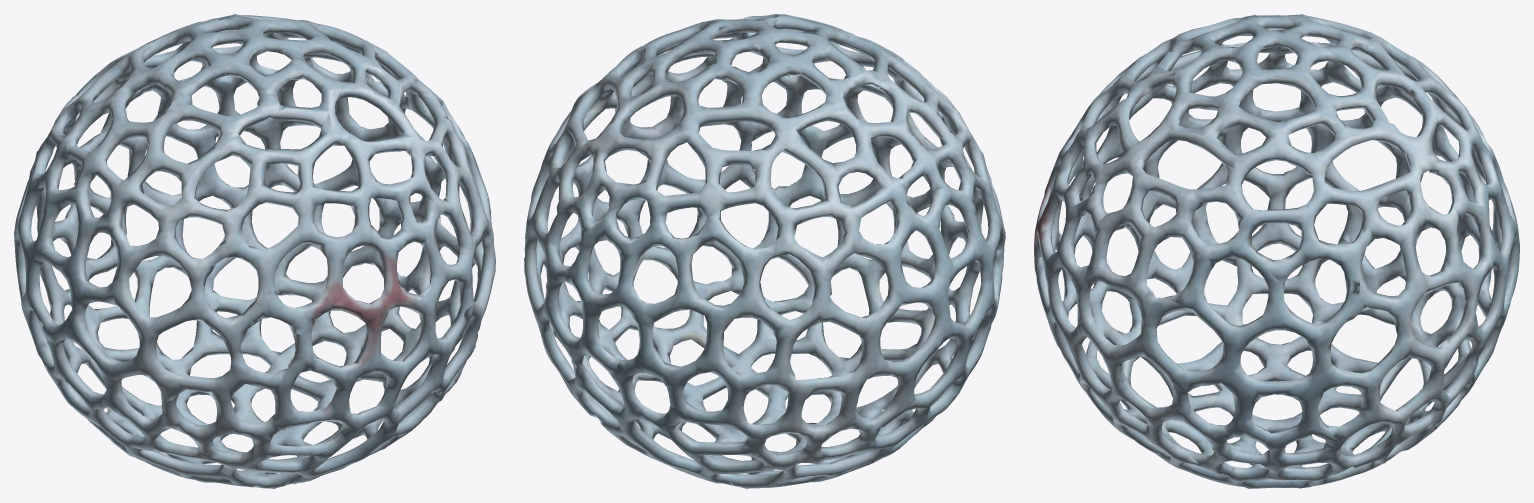
Rendered from Fractal_Bloom_0110003604_texture.glb.
The picture shows the model from 3 angles, left to right: view 1: azimuth 30°, elevation 25°; view 2: azimuth 150°, elevation 25°; view 3: azimuth 270°, elevation 25°; orthographic projection.
Size of the model in its own units: 1.98 by 1.98 by 2.
Materials: 1 (1 with a texture image).
